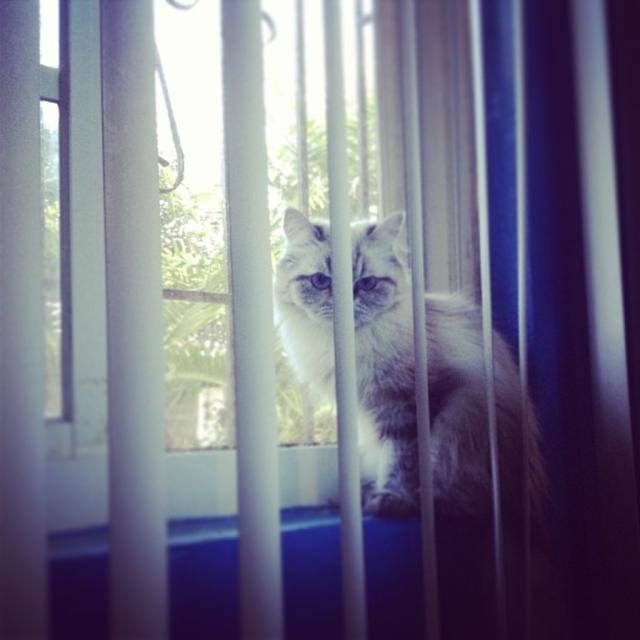Cat: (259, 196, 544, 562)
